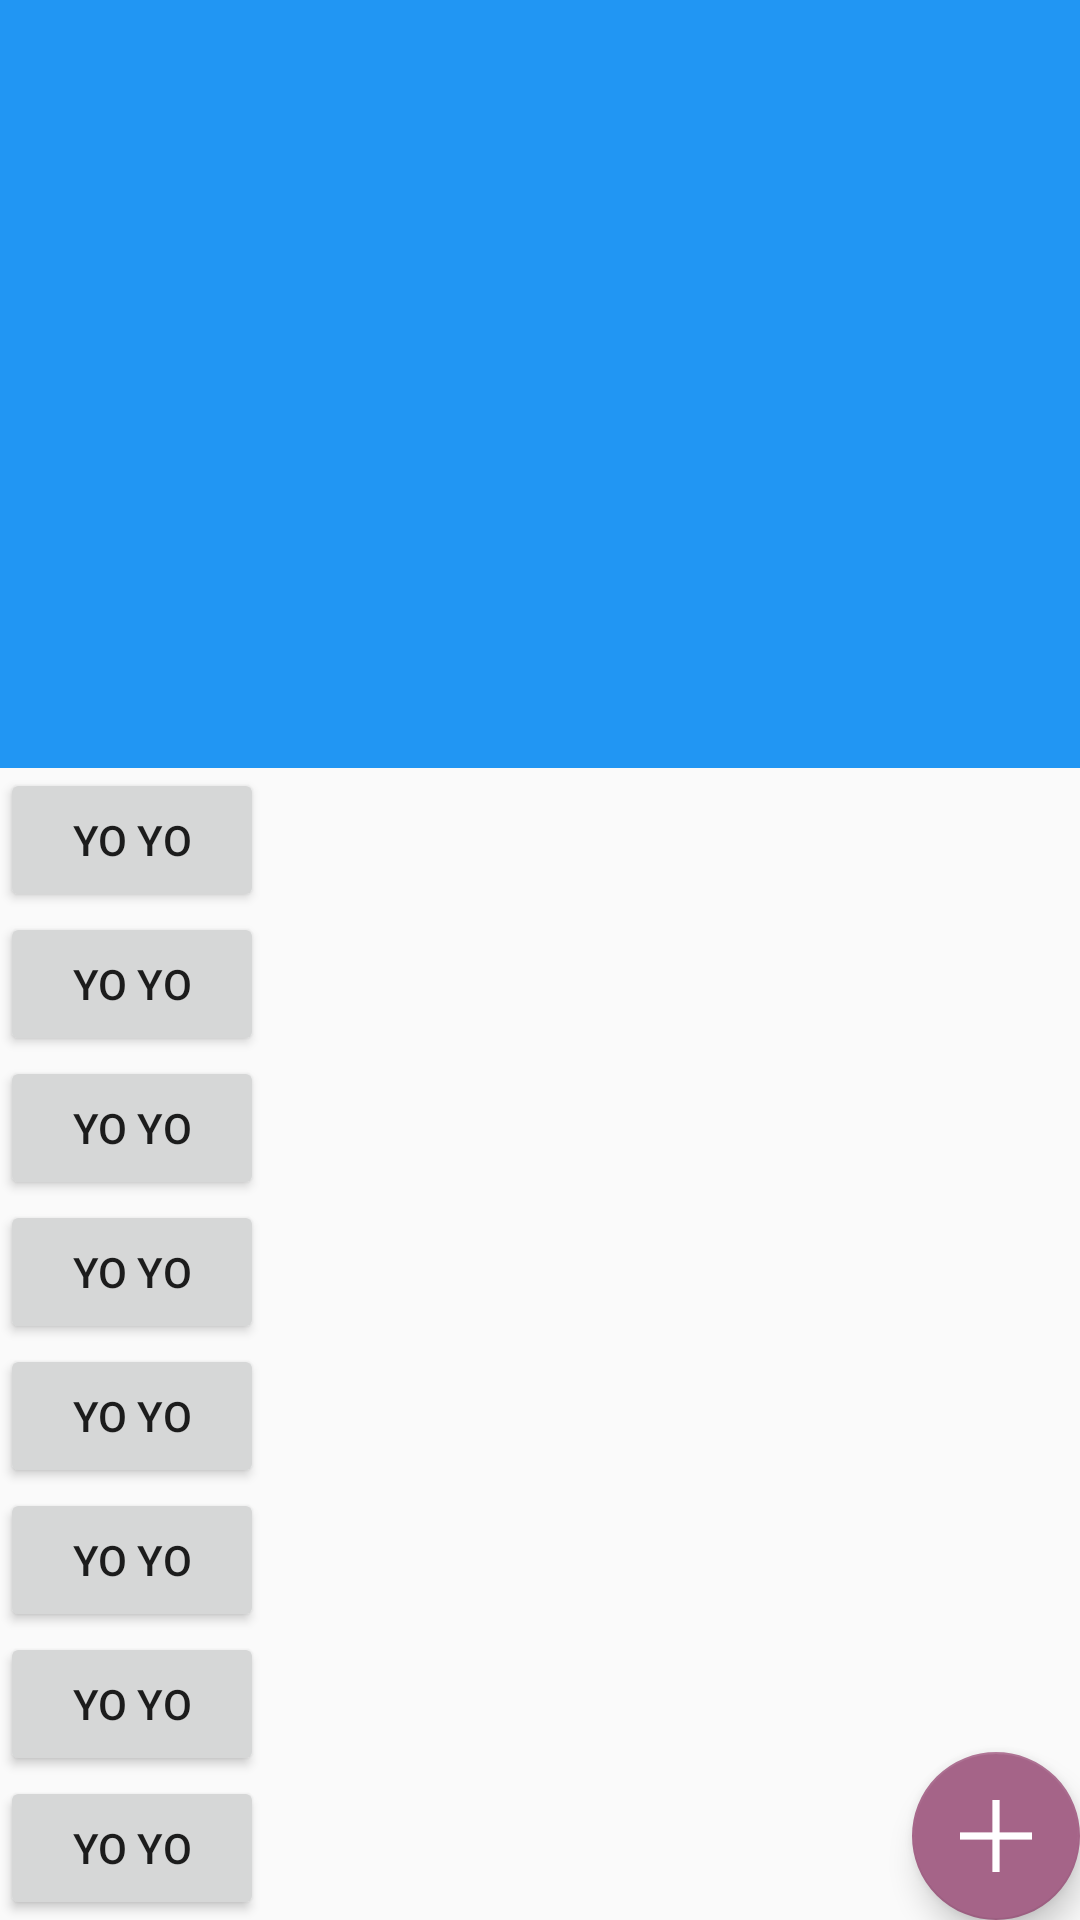

Screen size 1080x1920. Icon name, then its center in pixels as (x=x, y=y):
plus: (x=996, y=1836)
